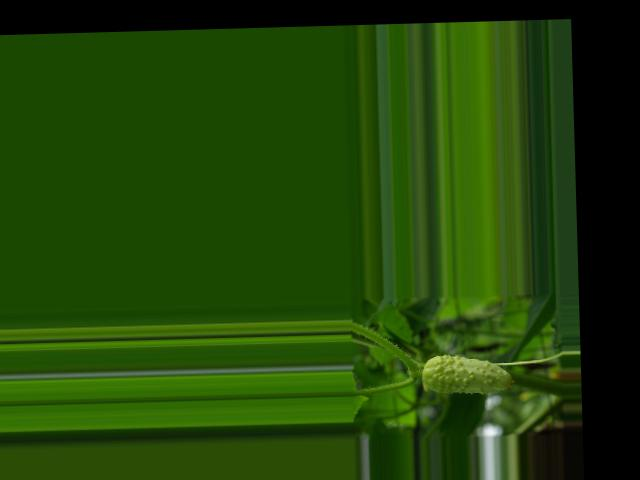cucumber: (421, 352, 515, 394)
